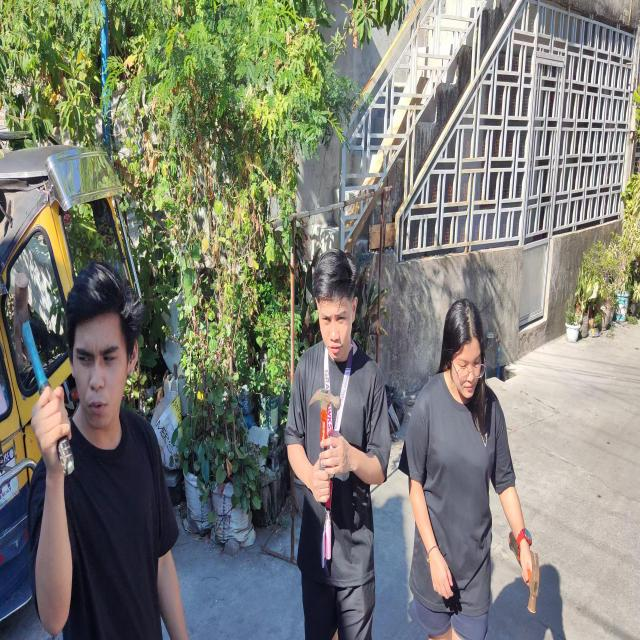hammer: (13, 272, 74, 475), (508, 531, 540, 613), (309, 388, 341, 469)
